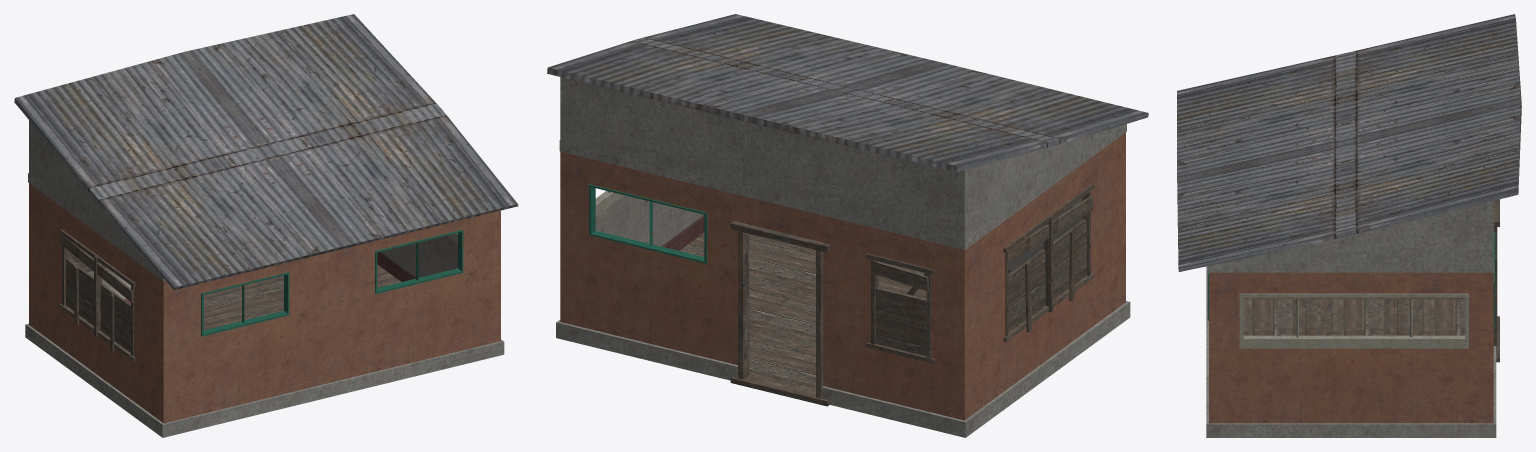
Rendered from BuildingSmall01_2048_lod1.glb.
3 views of the same model, side by side, from view 1: azimuth 30°, elevation 25°; view 2: azimuth 150°, elevation 25°; view 3: azimuth 270°, elevation 25° (orthographic). The views are drawn at different scales.
Parts seen in each view (by area): view 1: xiutz_building_small_01_lod1; view 2: xiutz_building_small_01_lod1; view 3: xiutz_building_small_01_lod1.
Boxes of the visible parts, box(x1,y1,x2,y2) form: xiutz_building_small_01_lod1: box(14, 14, 518, 437); xiutz_building_small_01_lod1: box(547, 14, 1148, 437); xiutz_building_small_01_lod1: box(1177, 14, 1521, 437).
Bounding box in the file's own units: 8.6 × 5.57 × 6.98.
1 material, 1 textured.
